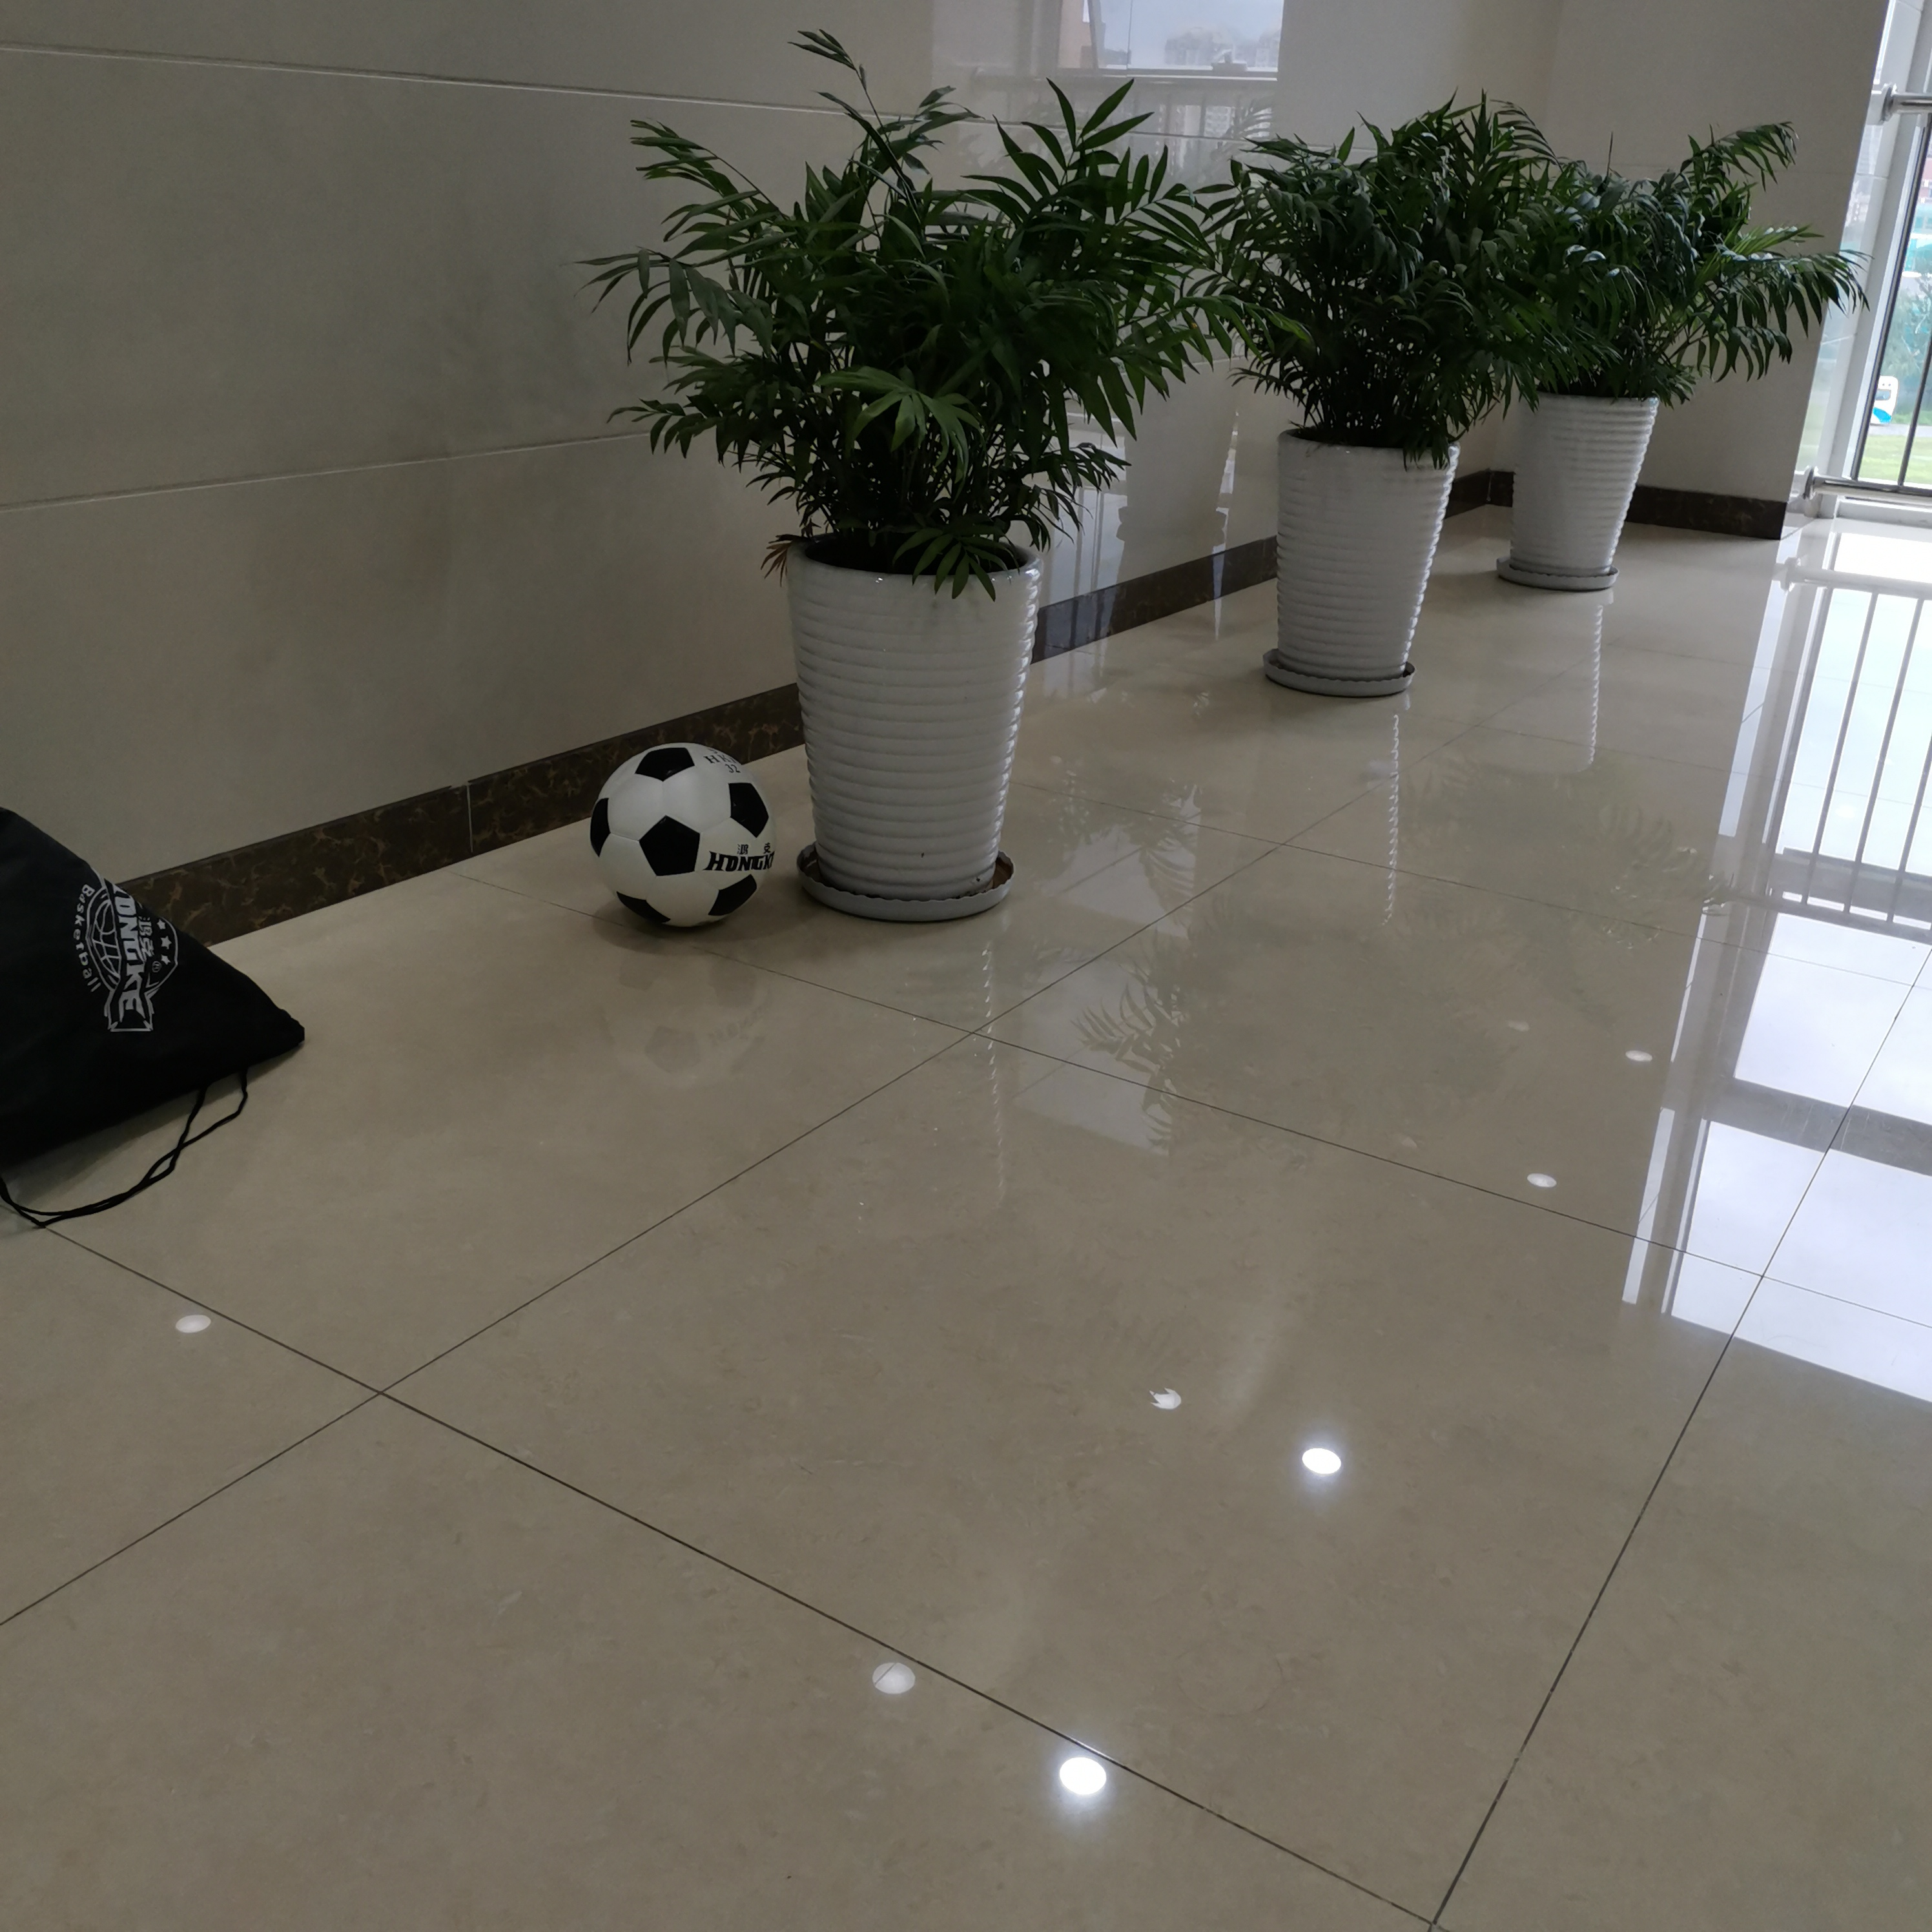football: (593, 740, 777, 927)
